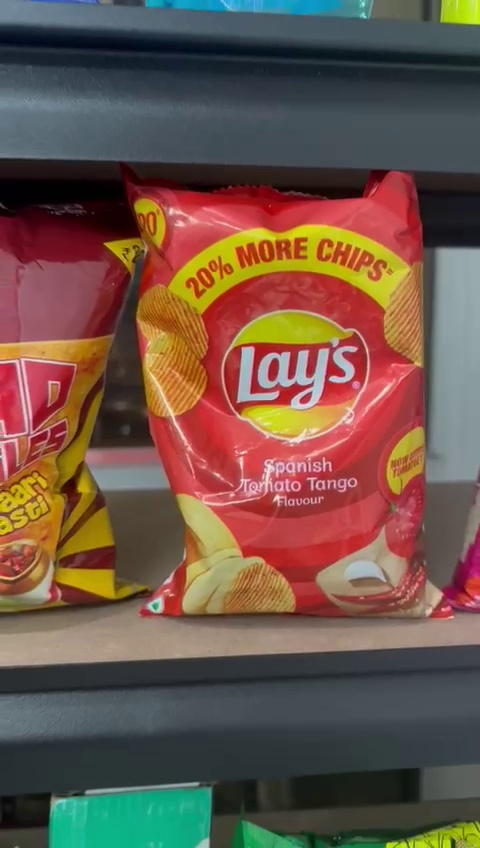Lays: (136, 189, 445, 623)
